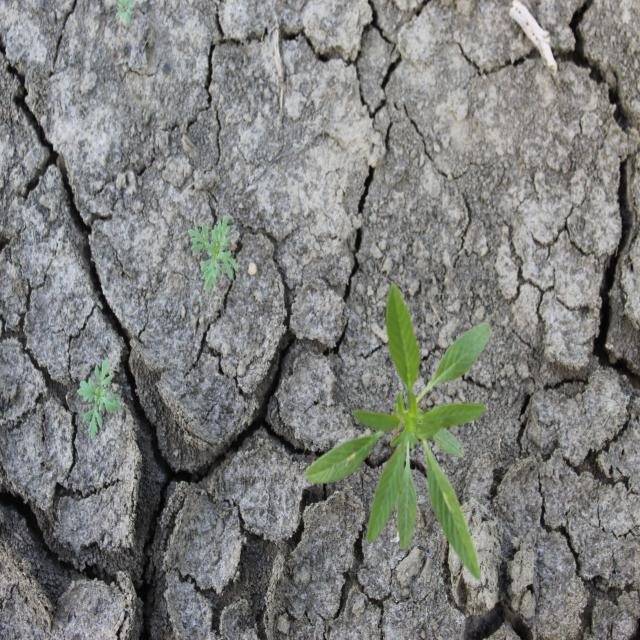Ragweed: (74, 354, 124, 446), (187, 213, 241, 295)
Waterhemp: (302, 280, 493, 583)
